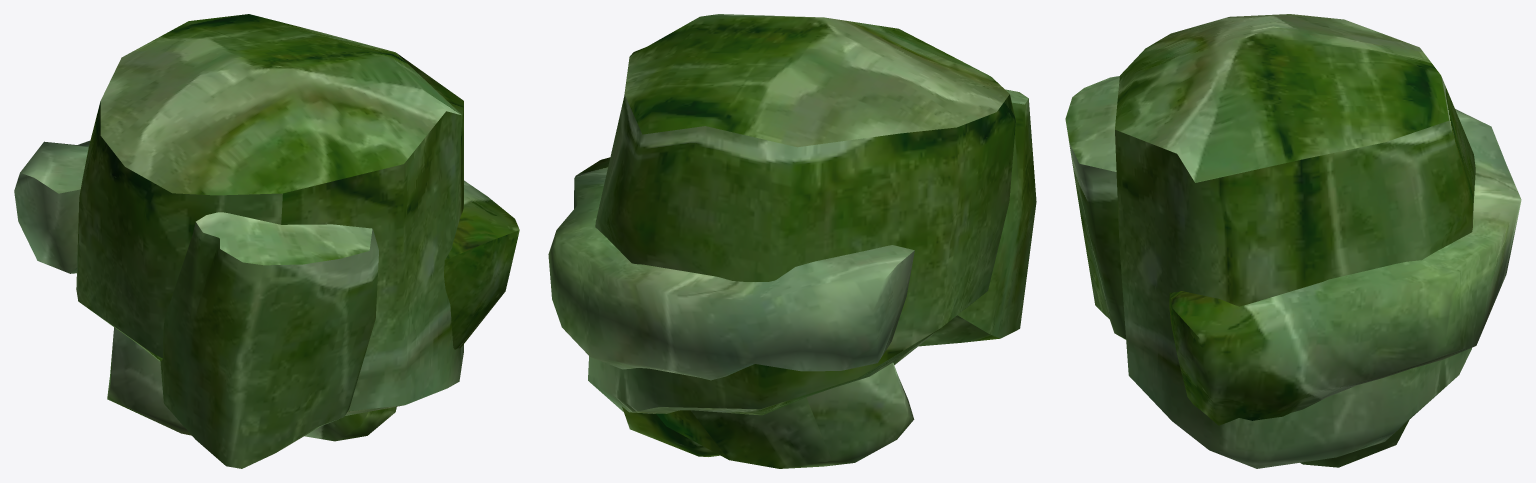
3 renders of one model, left to right at view 1: azimuth 30°, elevation 25°; view 2: azimuth 150°, elevation 25°; view 3: azimuth 270°, elevation 25°, orthographic. The views are drawn at different scales.
Visible parts, largest first — view 1: SM_Adamantite_Ore_Medium_01_LOD0; view 2: SM_Adamantite_Ore_Medium_01_LOD0; view 3: SM_Adamantite_Ore_Medium_01_LOD0.
Boxes of the visible parts, x1,y1,x2,y2 form: SM_Adamantite_Ore_Medium_01_LOD0: [14, 14, 519, 468]; SM_Adamantite_Ore_Medium_01_LOD0: [548, 14, 1036, 468]; SM_Adamantite_Ore_Medium_01_LOD0: [1065, 14, 1521, 468].
Size of the model in its own units: 0.2491 by 0.2454 by 0.261.
